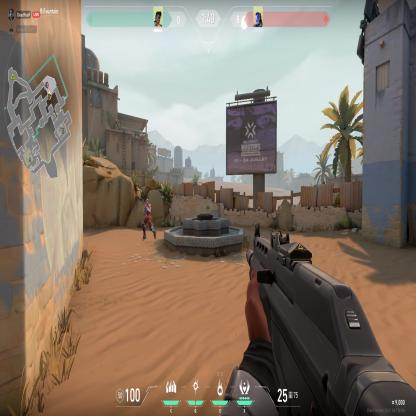enemy: (141, 198, 157, 242)
